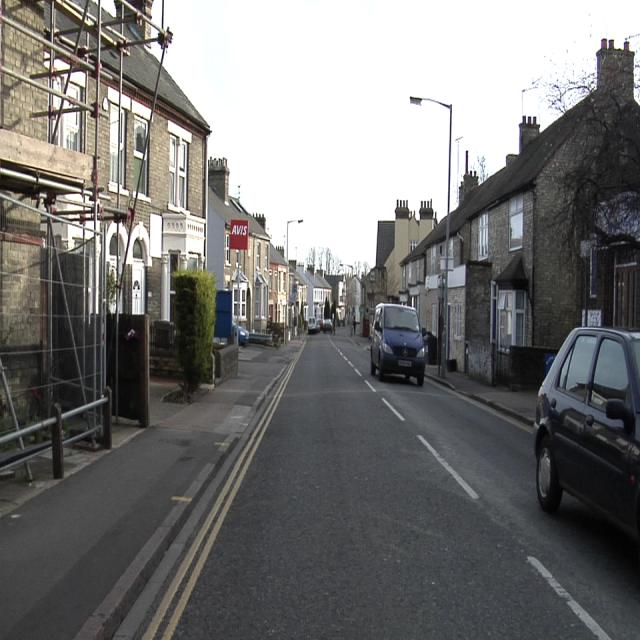Building: (2, 3, 262, 351), (362, 116, 584, 385)
Car: (535, 327, 639, 547), (371, 304, 425, 383), (320, 319, 333, 331)
Road: (113, 332, 634, 639)
Tree: (538, 9, 602, 116)
